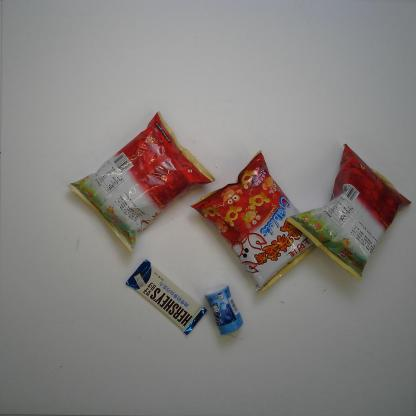Chocolate: (124, 258, 208, 336)
Gum: (203, 283, 245, 337)
Puffed Food: (66, 110, 218, 254), (189, 149, 318, 296), (286, 142, 414, 282)
